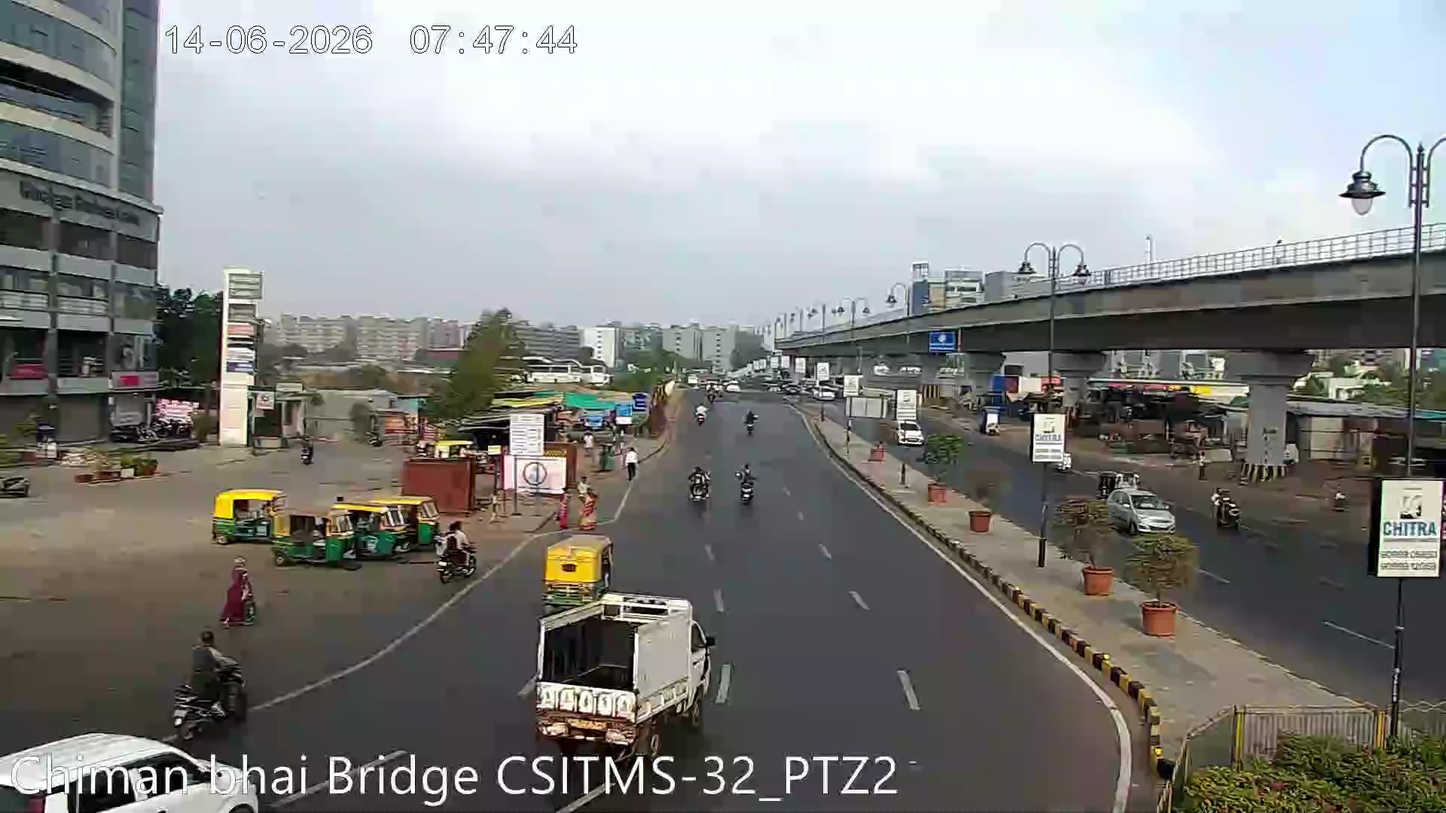auto_rickshaw: (323, 491, 440, 560), (357, 489, 443, 555), (542, 533, 614, 599), (209, 483, 284, 542), (269, 504, 339, 566), (0, 444, 33, 500)
car: (1, 728, 235, 801), (1108, 486, 1179, 535), (894, 419, 924, 446)
pedestrian: (623, 441, 641, 486)
truck: (522, 587, 731, 741)
two_wheeler: (171, 624, 253, 729), (216, 557, 262, 628), (434, 522, 482, 583), (1212, 485, 1244, 532), (685, 459, 714, 507), (575, 475, 602, 526), (734, 458, 760, 510), (741, 404, 761, 438), (299, 433, 317, 469), (692, 398, 710, 429)
